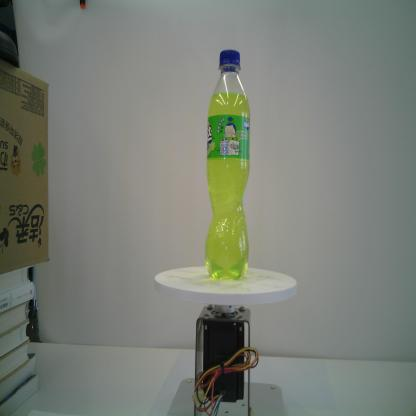Drink: (202, 48, 252, 284)
